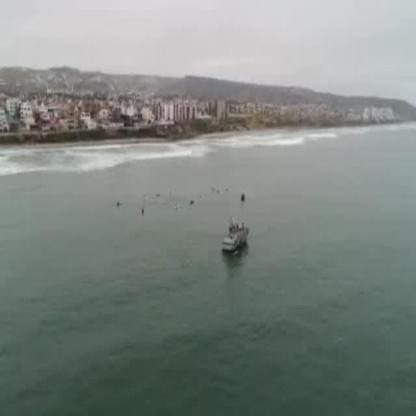Boat: (223, 218, 252, 255)
